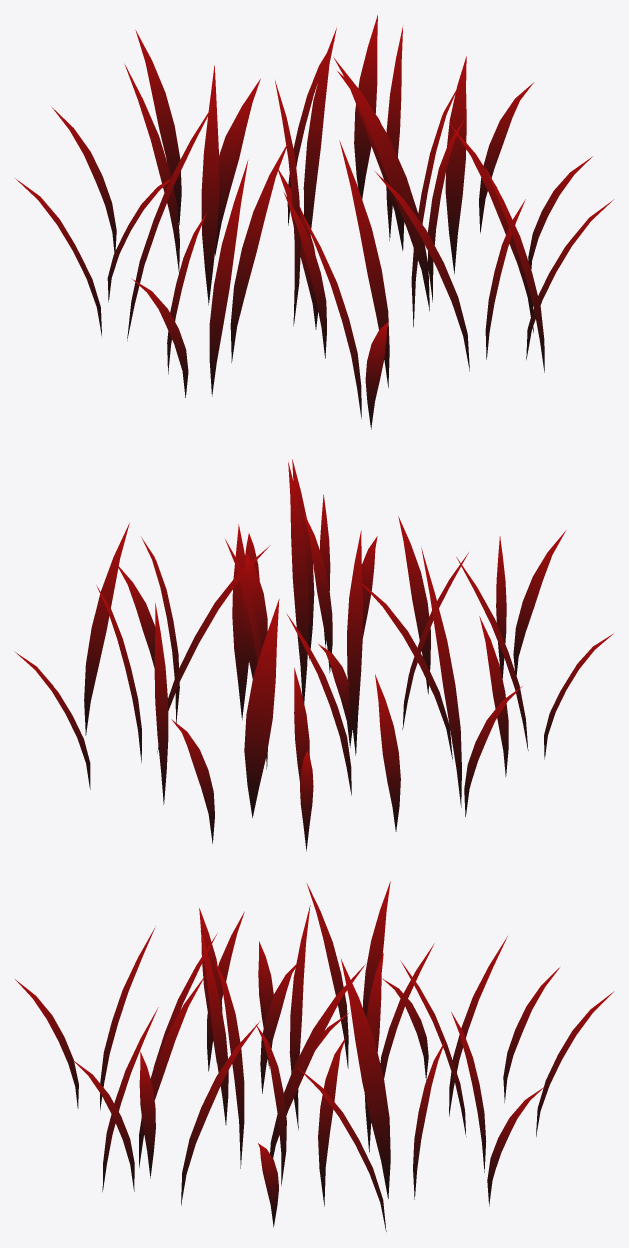
The model's file is Grass.fbx.
The picture shows the model from 3 angles, top to bottom: view 1: azimuth 30°, elevation 25°; view 2: azimuth 150°, elevation 25°; view 3: azimuth 270°, elevation 25°; orthographic projection. The views are drawn at different scales.
Visible parts, largest first — view 1: Grass; view 2: Grass; view 3: Grass.
Boxes of the visible parts, <box> form: Grass: <box>15,15,614,429</box>; Grass: <box>14,459,613,851</box>; Grass: <box>15,881,614,1231</box>.
Size of the model in its own units: 3.09 by 1.46 by 3.57.
